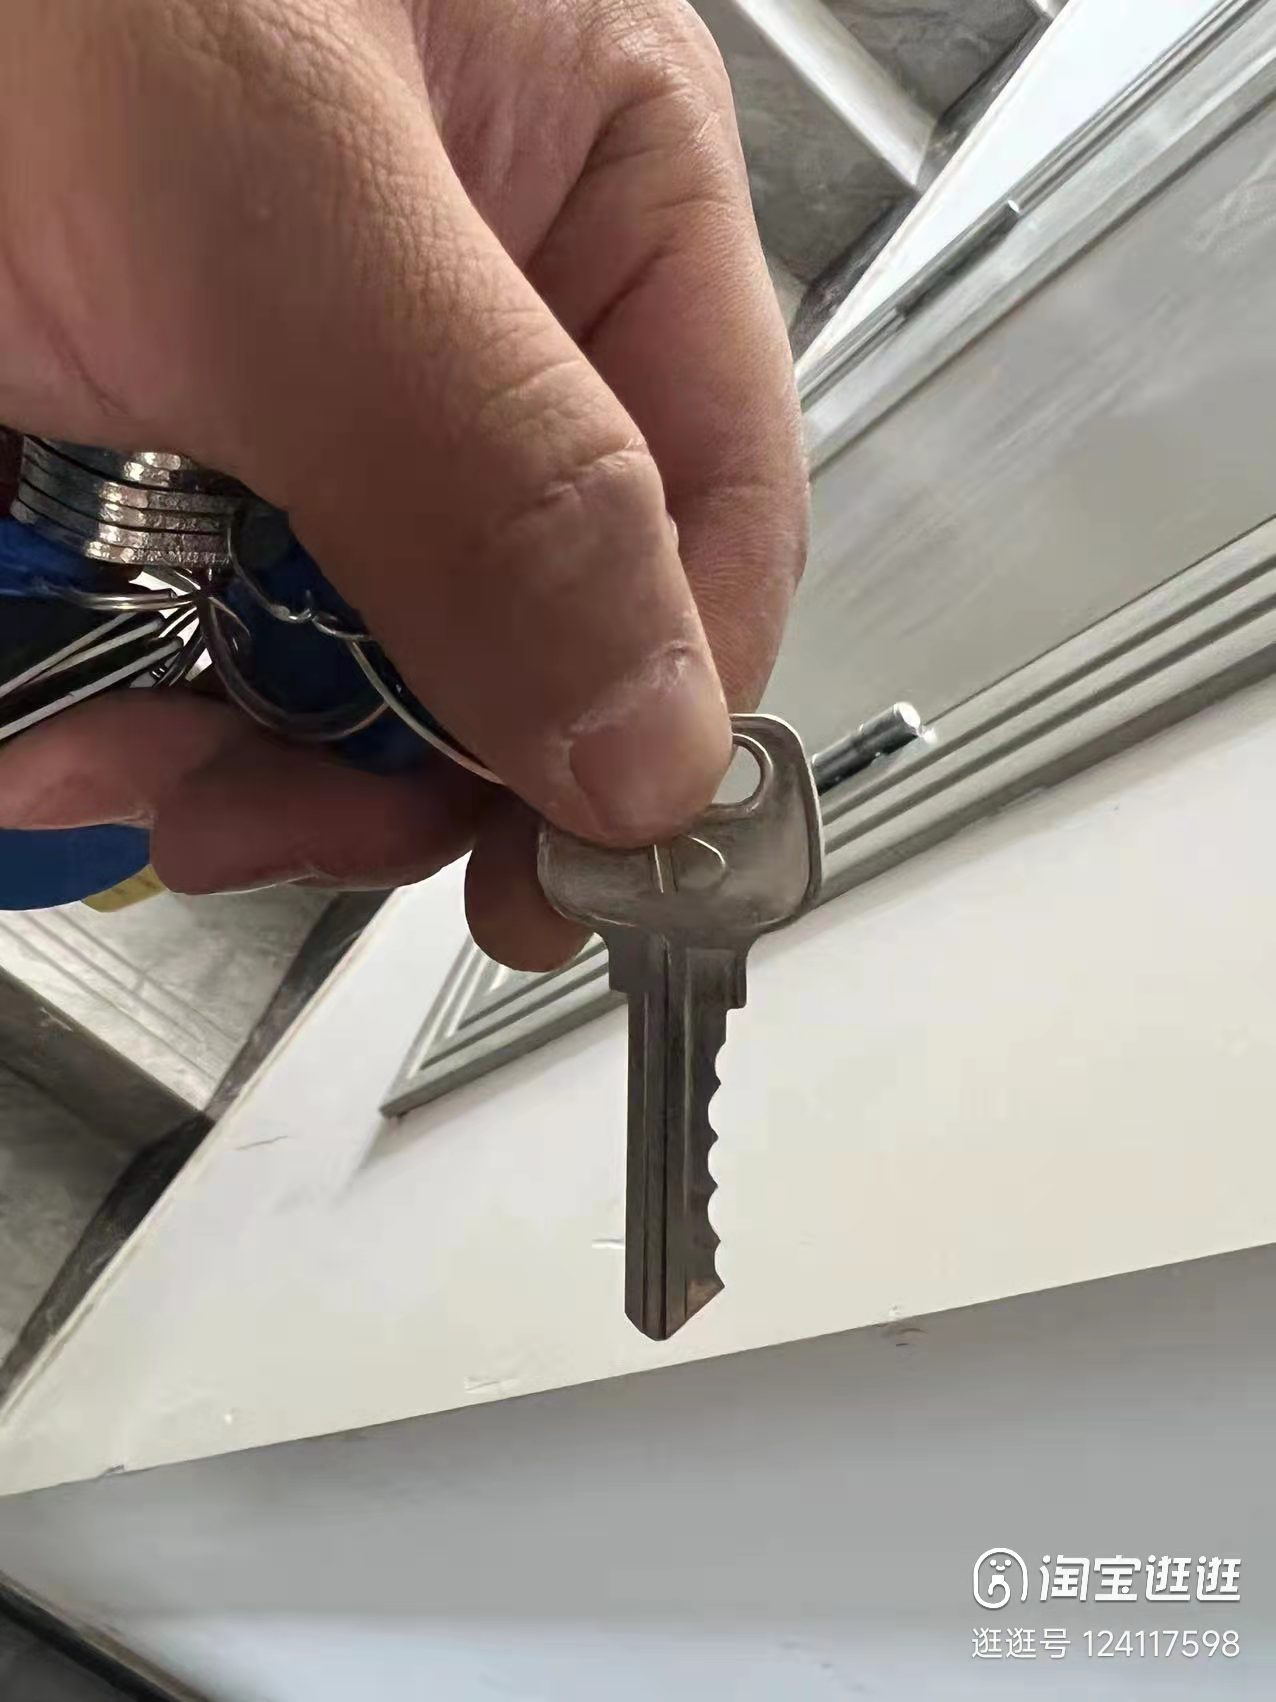key: (511, 708, 860, 1383)
